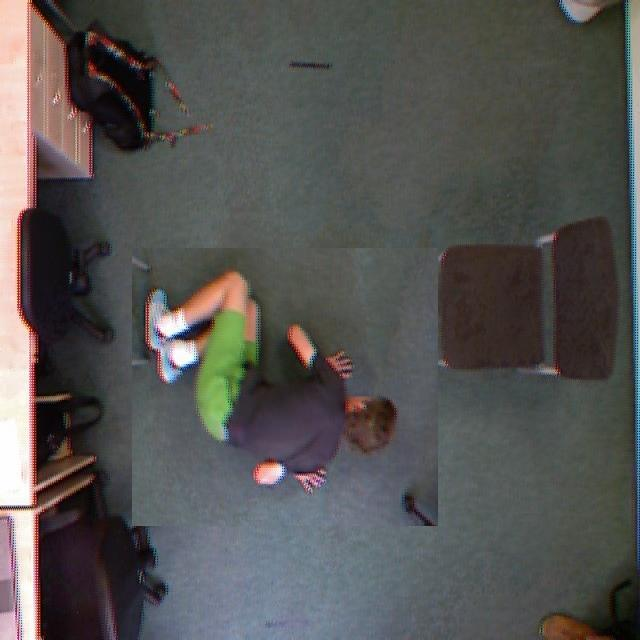Fall: (125, 259, 428, 492)
